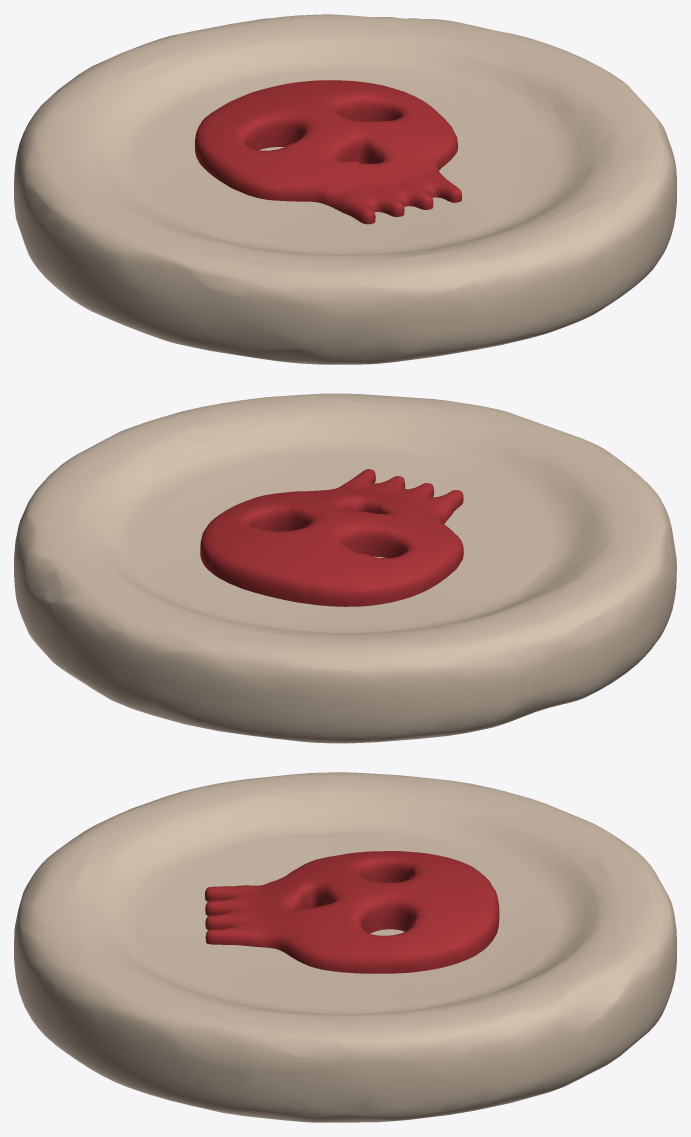
File: token-necromancer-red.glb
3 views of the same model, one above another, from view 1: azimuth 30°, elevation 25°; view 2: azimuth 150°, elevation 25°; view 3: azimuth 270°, elevation 25° (orthographic).
Visible parts, largest first — view 1: token_necromancer_red; view 2: token_necromancer_red; view 3: token_necromancer_red.
Boxes of the visible parts, <box> form: token_necromancer_red: <box>14,14,676,364</box>; token_necromancer_red: <box>14,393,676,743</box>; token_necromancer_red: <box>14,772,676,1122</box>.
Size of the model in its own units: 0.414 by 0.0721 by 0.4142.
